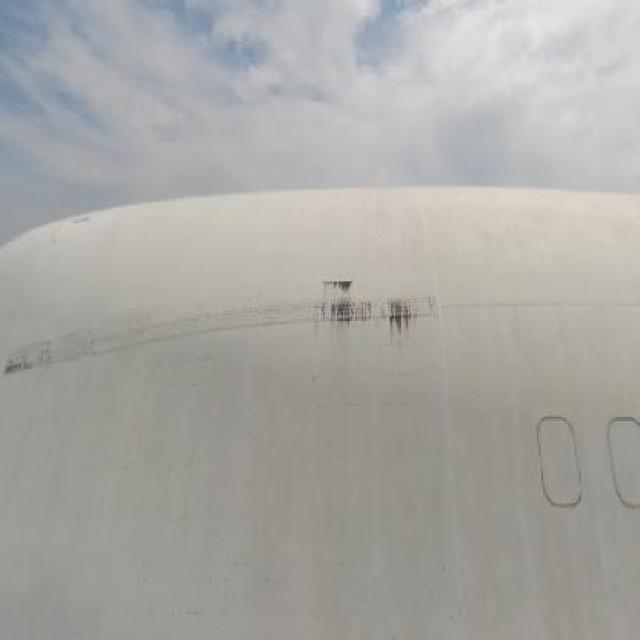Rust: (310, 268, 435, 357)
Scartch: (6, 338, 56, 393)
